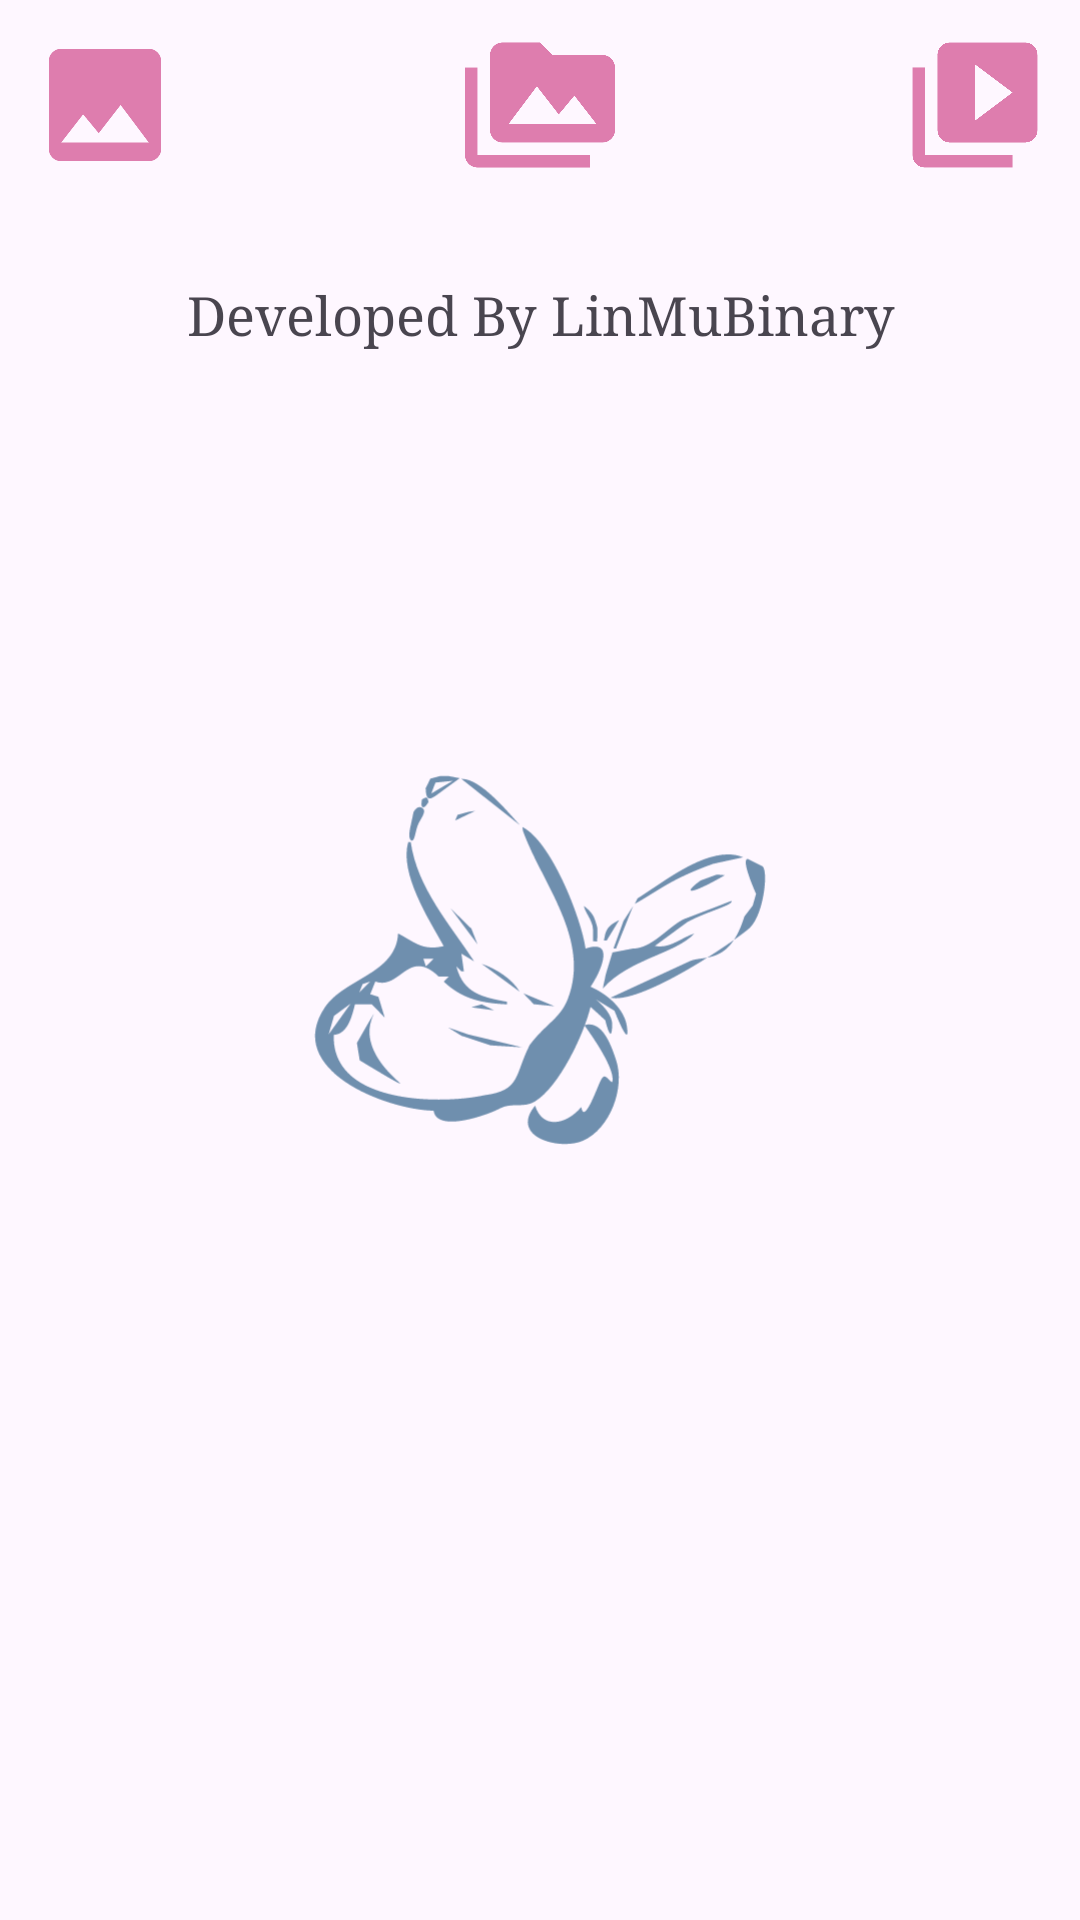

Where icons sit on this 1080*1920 app screen, as (x1, y1, x2, y2):
perm media: (465, 42, 615, 168)
video library: (912, 42, 1038, 168)
